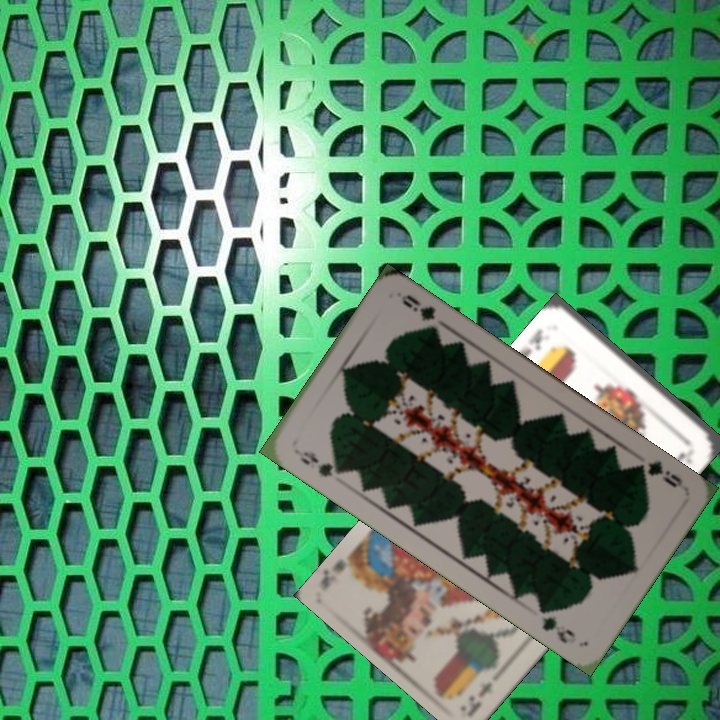EK: (513, 324, 546, 364), (464, 677, 495, 716)
G9: (629, 456, 686, 492), (289, 445, 347, 480)
